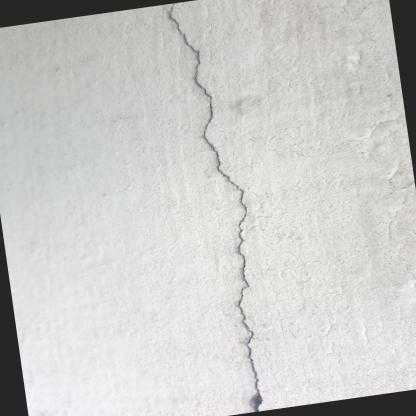crack: (167, 3, 262, 412)
